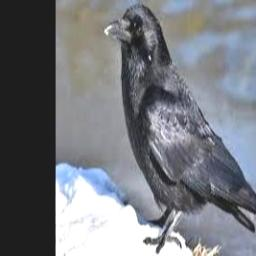Crow: (105, 3, 256, 256)
